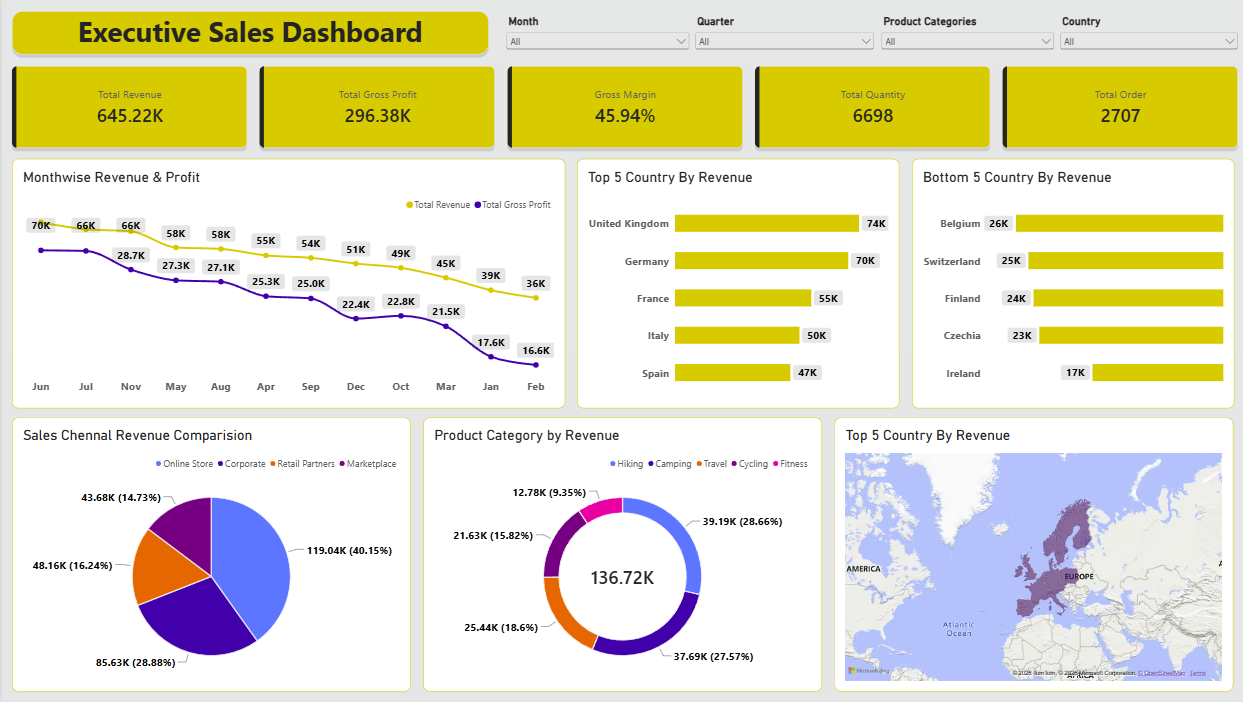

What the dashboard file says about the page in this screenshot:
{"tool":"powerbi","page":{"name":"Page 1","canvas":[1920,1080],"ordinal":0},"visuals":[{"type":"cardVisual","fields":{"Data":["All_Measures.Total Revenue","All_Measures.Total Gross Profit","All_Measures.Gross Margin","All_Measures.Total Quantity","All_Measures.Total Order"]},"box":[9.8,96,1902,137.3],"z":0},{"type":"clusteredBarChart","title":"Top 5 Country By Revenue","fields":{"Category":["salesdata.Country"],"Y":["All_Measures.Total Revenue"]},"box":[884.3,244.4,496.2,384.3],"z":1000},{"type":"textbox","box":[15,18,733.3,66.7],"z":2000},{"type":"clusteredBarChart","title":"Bottom 5 Country By Revenue","fields":{"Category":["salesdata.Country"],"Y":["All_Measures.Total Revenue"]},"box":[1399.9,244.4,496.2,384.3],"z":3000},{"type":"slicer","fields":{"Values":["Date_table.Month_name"]},"box":[771.6,22.2,291.2,73.3],"z":4000,"group":"g1"},{"type":"slicer","fields":{"Values":["Date_table.Quarter"]},"box":[1062.8,22.2,285.4,73.3],"z":5000,"group":"g1"},{"type":"slicer","fields":{"Values":["salesdata.Product Category"]},"box":[1348.2,22.2,275.6,73.3],"z":6000,"group":"g1"},{"type":"slicer","fields":{"Values":["salesdata.Country"]},"box":[1623.8,22.2,283.4,73.3],"z":7000,"group":"g1"},{"type":"lineChart","title":"Monthwise Revenue & Profit","fields":{"Category":["Date_table.Month_name"],"Y":["All_Measures.Total Revenue"],"Y2":["All_Measures.Total Gross Profit"]},"box":[16,244.4,851,384.3],"z":8000},{"type":"pieChart","title":"Sales Chennal Revenue Comparision","fields":{"Category":["salesdata.Sales Channel"],"Y":["All_Measures.Total Revenue"]},"box":[15.7,643.1,613.7,421.6],"z":9000},{"type":"donutChart","title":"Product Category by Revenue","fields":{"Category":["salesdata.Product Category"],"Y":["All_Measures.Total Gross Profit"]},"box":[648.1,643.1,613.7,421.6],"z":10000},{"type":"filledMap","title":"Top 5 Country By Revenue","fields":{"Category":["salesdata.Country"]},"box":[1280.5,643.1,613.7,421.6],"z":11000},{"type":"group","id":"g1","title":"Group 1","box":[771.6,22.2,1135.6,73.3],"z":11001}]}

Visuals, with their boxes in screenshot pixels (x1, y1, x2, y2), scaled from the page's 1920x1080 canvas onto the 1243x702 screenshot:
cardVisual - All_Measures.Total Revenue x All_Measures.Total Gross Profit: (left=6, top=62, right=1238, bottom=152)
"Top 5 Country By Revenue" clusteredBarChart: (left=572, top=159, right=894, bottom=409)
textbox: (left=10, top=12, right=484, bottom=55)
"Bottom 5 Country By Revenue" clusteredBarChart: (left=906, top=159, right=1228, bottom=409)
slicer - Date_table.Month_name: (left=500, top=14, right=688, bottom=62)
slicer - Date_table.Quarter: (left=688, top=14, right=873, bottom=62)
slicer - salesdata.Product Category: (left=873, top=14, right=1051, bottom=62)
slicer - salesdata.Country: (left=1051, top=14, right=1235, bottom=62)
"Monthwise Revenue & Profit" lineChart: (left=10, top=159, right=561, bottom=409)
"Sales Chennal Revenue Comparision" pieChart: (left=10, top=418, right=407, bottom=692)
"Product Category by Revenue" donutChart: (left=420, top=418, right=817, bottom=692)
"Top 5 Country By Revenue" filledMap: (left=829, top=418, right=1226, bottom=692)
"Group 1" group: (left=500, top=14, right=1235, bottom=62)
